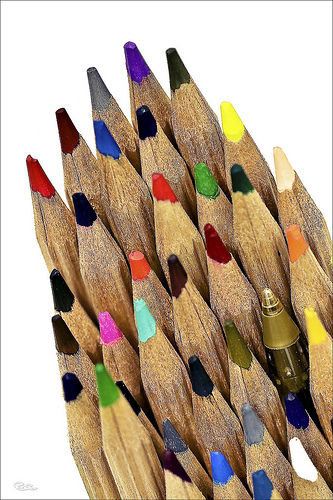pen_tip: (162, 38, 221, 154)
